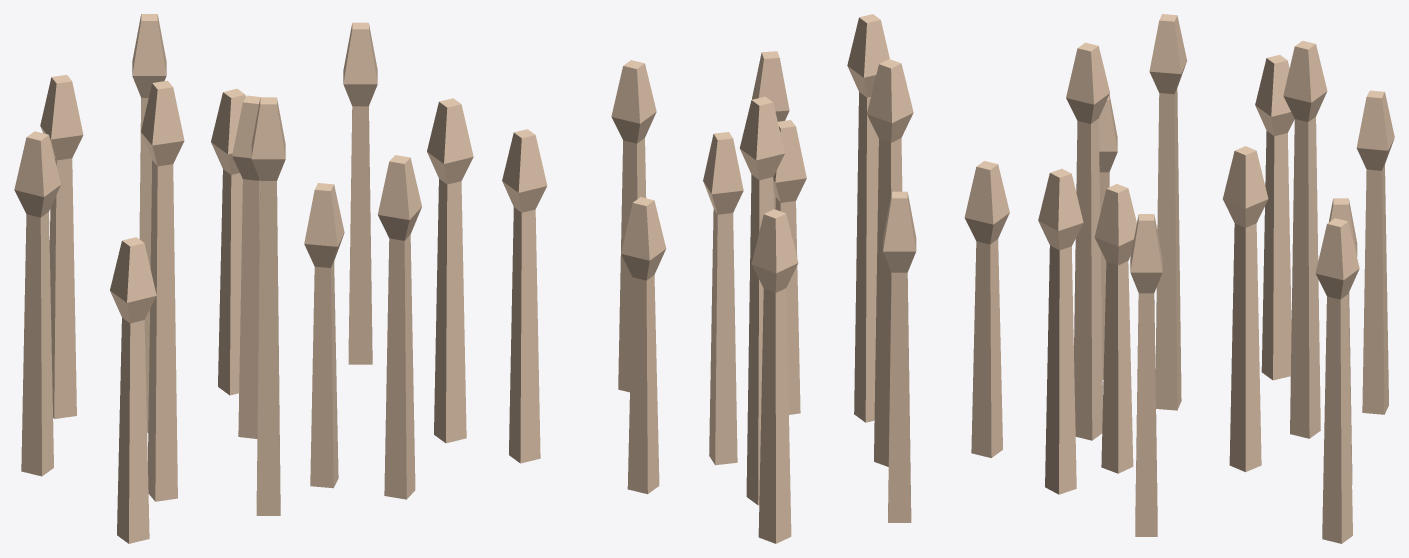
Rendered from crops_wheatStageB.fbx.
3 renders of one model, left to right at view 1: azimuth 30°, elevation 25°; view 2: azimuth 150°, elevation 25°; view 3: azimuth 270°, elevation 25°, orthographic. The views are drawn at different scales.
Visible parts, largest first — view 1: crops_wheatStageB; view 2: crops_wheatStageB; view 3: crops_wheatStageB.
Part boxes in pixels (left/top/right/bottom): crops_wheatStageB: left=14, top=14, right=473, bottom=543; crops_wheatStageB: left=502, top=14, right=1009, bottom=543; crops_wheatStageB: left=1038, top=14, right=1394, bottom=543.
Bounding box in the file's own units: 5.4 × 5.35 × 4.47.
